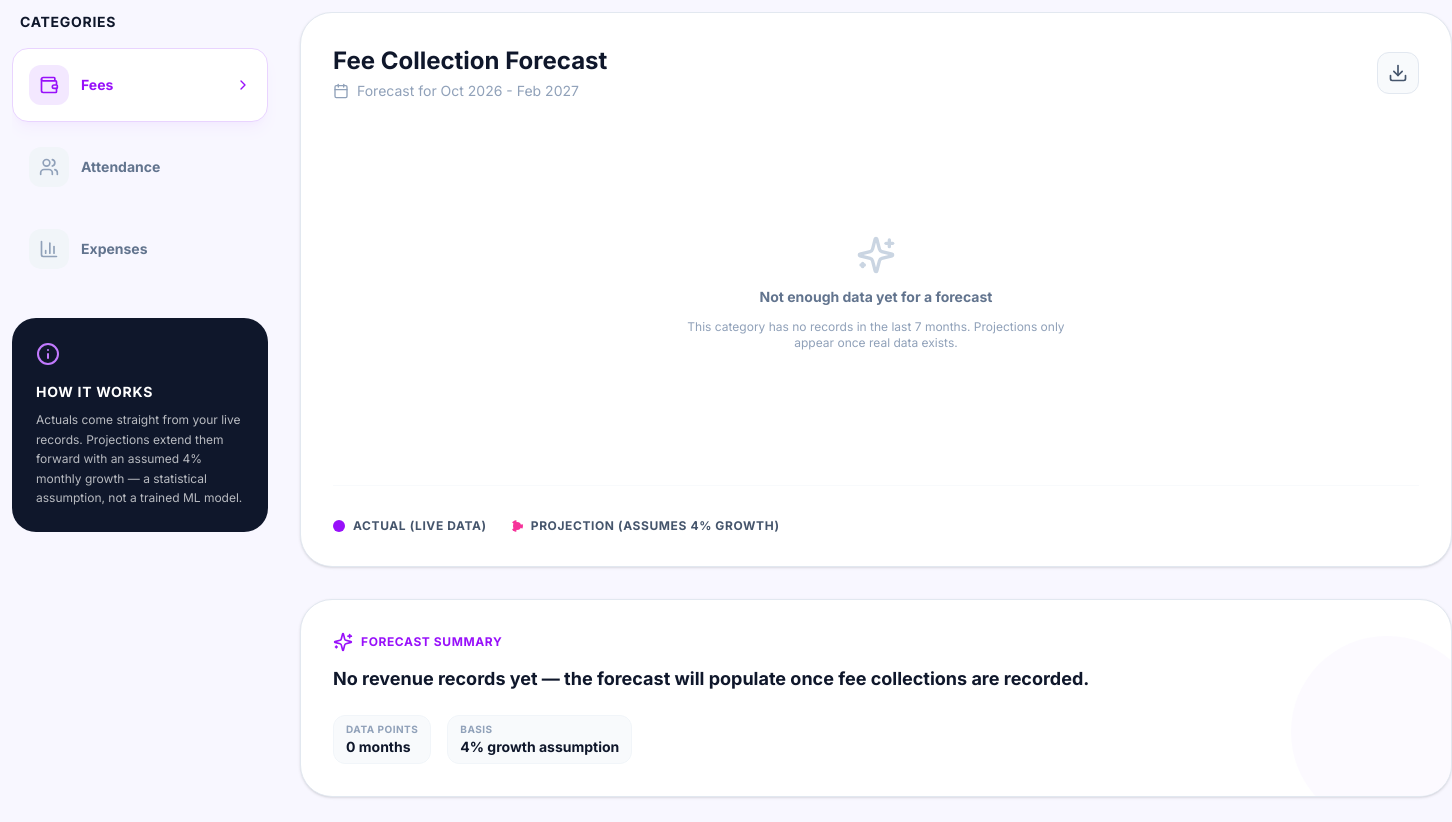
Test: Predictions › switches categories and shows the attendance forecast basis
Click the button "Attendance" at (140, 167), box [12,130,268,204]
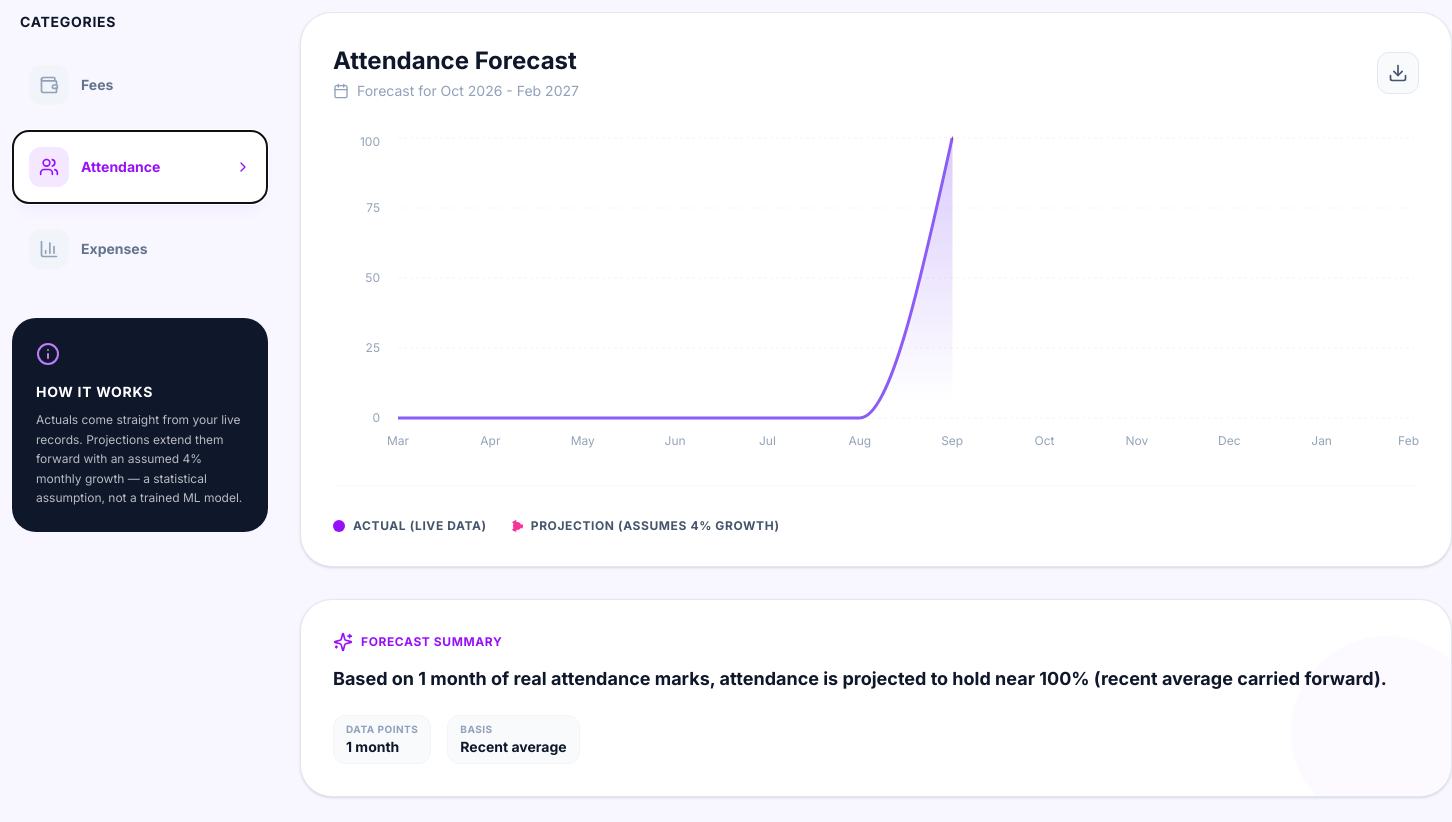
Check: the heading "Attendance Forecast" is shown, box [333,45,579,77]
Check: the text "Based on 1 month of real attendance marks" is shown, box [333,668,1387,689]
